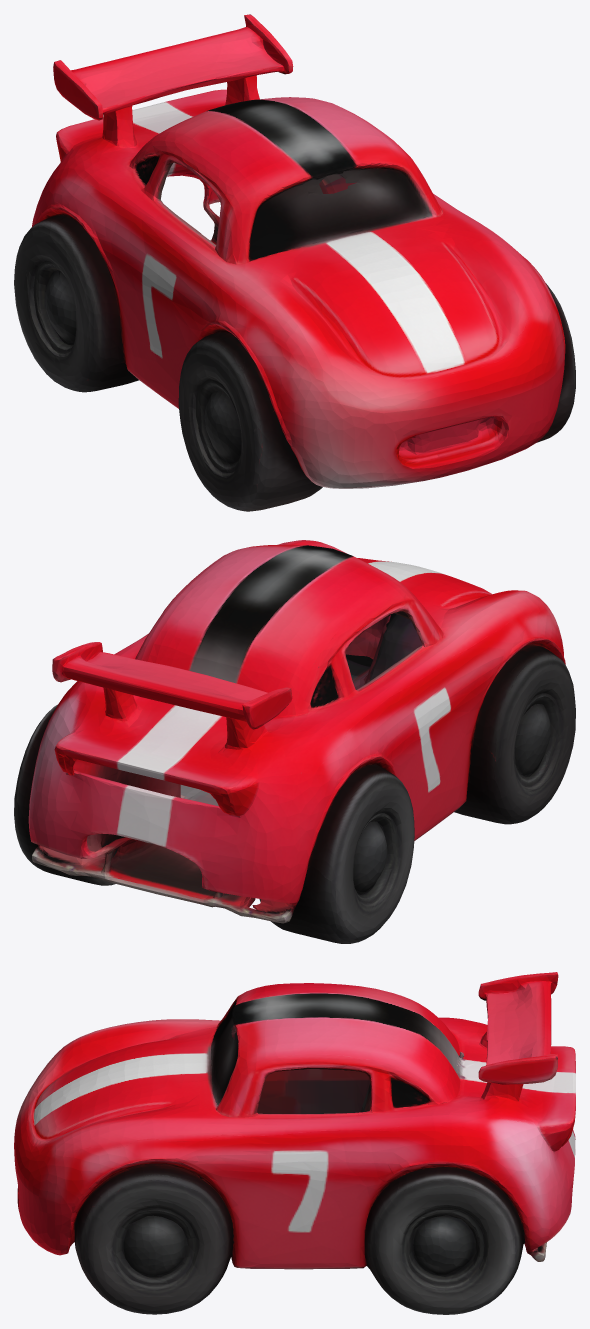
The model's file is car.glb.
3 views of the same model, one above another, from view 1: azimuth 30°, elevation 25°; view 2: azimuth 150°, elevation 25°; view 3: azimuth 270°, elevation 25° (orthographic). The views are drawn at different scales.
Parts seen in each view (by area): view 1: world; view 2: world; view 3: world.
Part boxes in pixels (x1,y1,x2,y2): world: (14,14,575,511); world: (14,540,575,943); world: (14,972,575,1314).
Bounding box in the file's own units: 0.6119 × 0.4872 × 0.9995.
1 material, 1 textured.
